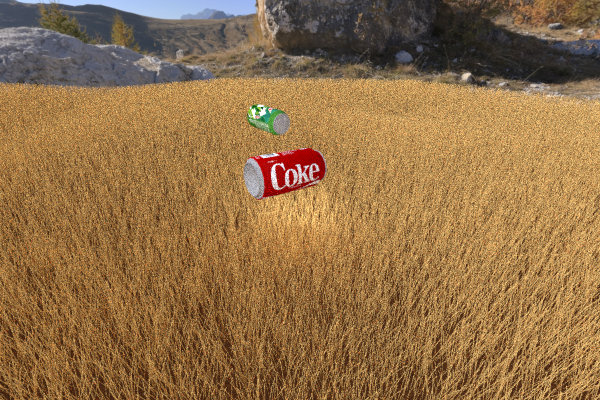bottle: (347, 95, 447, 159)
can: (243, 147, 326, 199), (247, 104, 289, 135)
